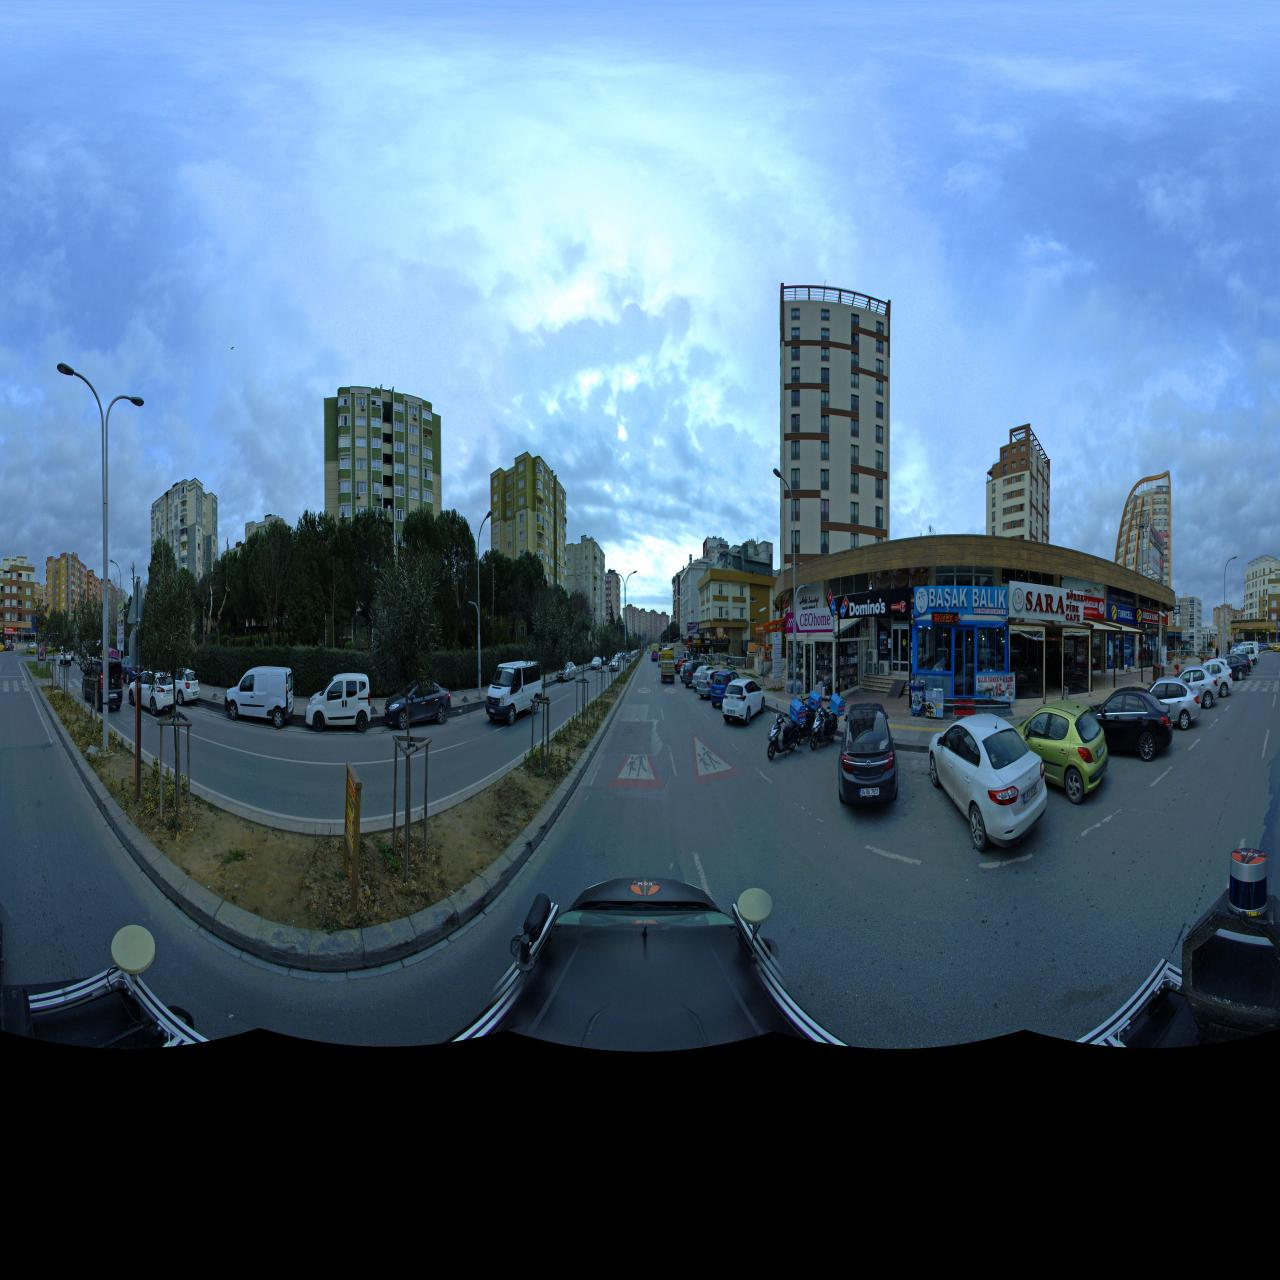SignStore: (1010, 579, 1084, 624), (914, 587, 1009, 619), (847, 594, 890, 618), (797, 607, 833, 632), (1108, 602, 1142, 625), (1085, 597, 1105, 619), (799, 591, 823, 610), (1144, 610, 1160, 624), (782, 598, 790, 613), (5, 627, 18, 635), (694, 639, 710, 645), (25, 629, 33, 633)
